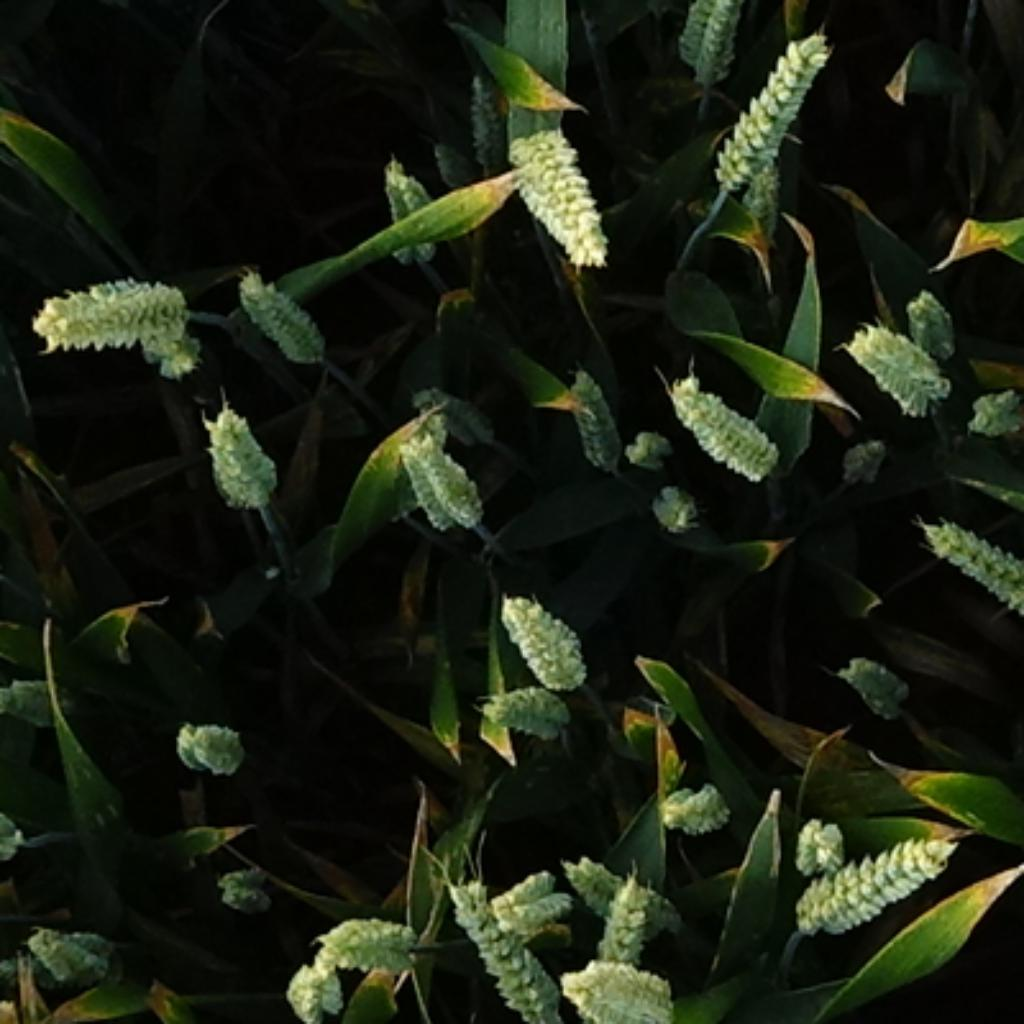0-0: (704, 15, 842, 199), (783, 821, 967, 939), (440, 865, 565, 1021), (28, 258, 204, 360), (499, 110, 616, 261), (911, 499, 1024, 632), (665, 358, 791, 473), (387, 425, 489, 543), (580, 860, 652, 1024), (849, 309, 960, 412), (494, 578, 593, 686), (570, 844, 680, 939), (230, 256, 332, 358), (197, 391, 284, 506), (563, 944, 678, 1024), (371, 145, 437, 269), (17, 908, 120, 985), (314, 901, 422, 972), (829, 640, 919, 714), (673, 2, 757, 81), (481, 862, 573, 929), (652, 765, 737, 832), (481, 673, 576, 732), (567, 373, 624, 469), (734, 156, 788, 253), (460, 64, 512, 163), (279, 939, 345, 1016), (785, 806, 852, 870), (417, 384, 489, 443), (131, 323, 204, 381), (178, 715, 250, 773), (215, 852, 281, 911), (903, 284, 960, 345), (965, 388, 1024, 444), (837, 424, 896, 478), (614, 422, 666, 478), (648, 484, 698, 532), (2, 811, 30, 867)
